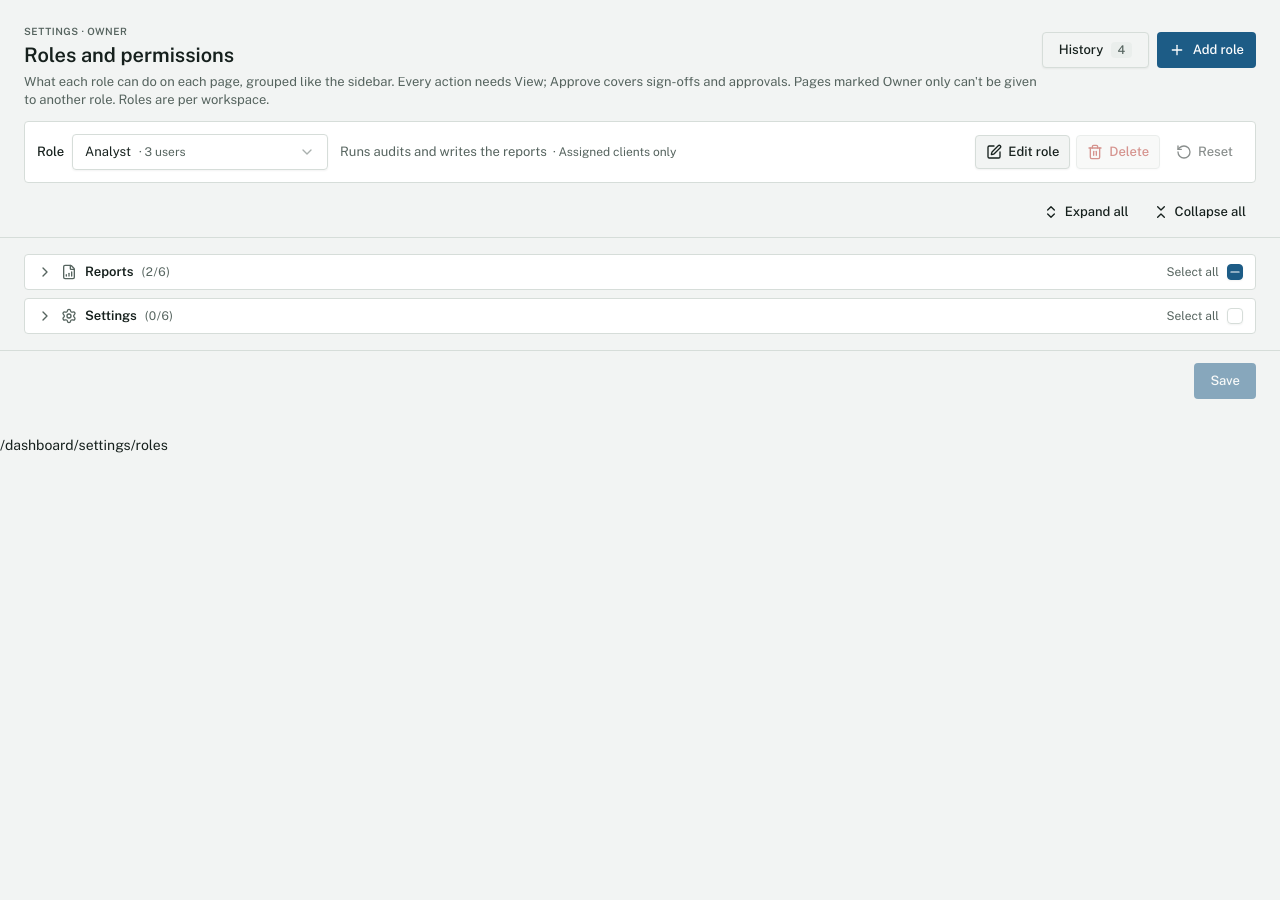
Test: RolesPage › asks before switching roles with unsaved changes
Expected: the dropdown named "Role" is shown, [72,134,328,170]
Click the button "Reports (2/6)".
click(109, 272)  # box [37,263,1154,281]
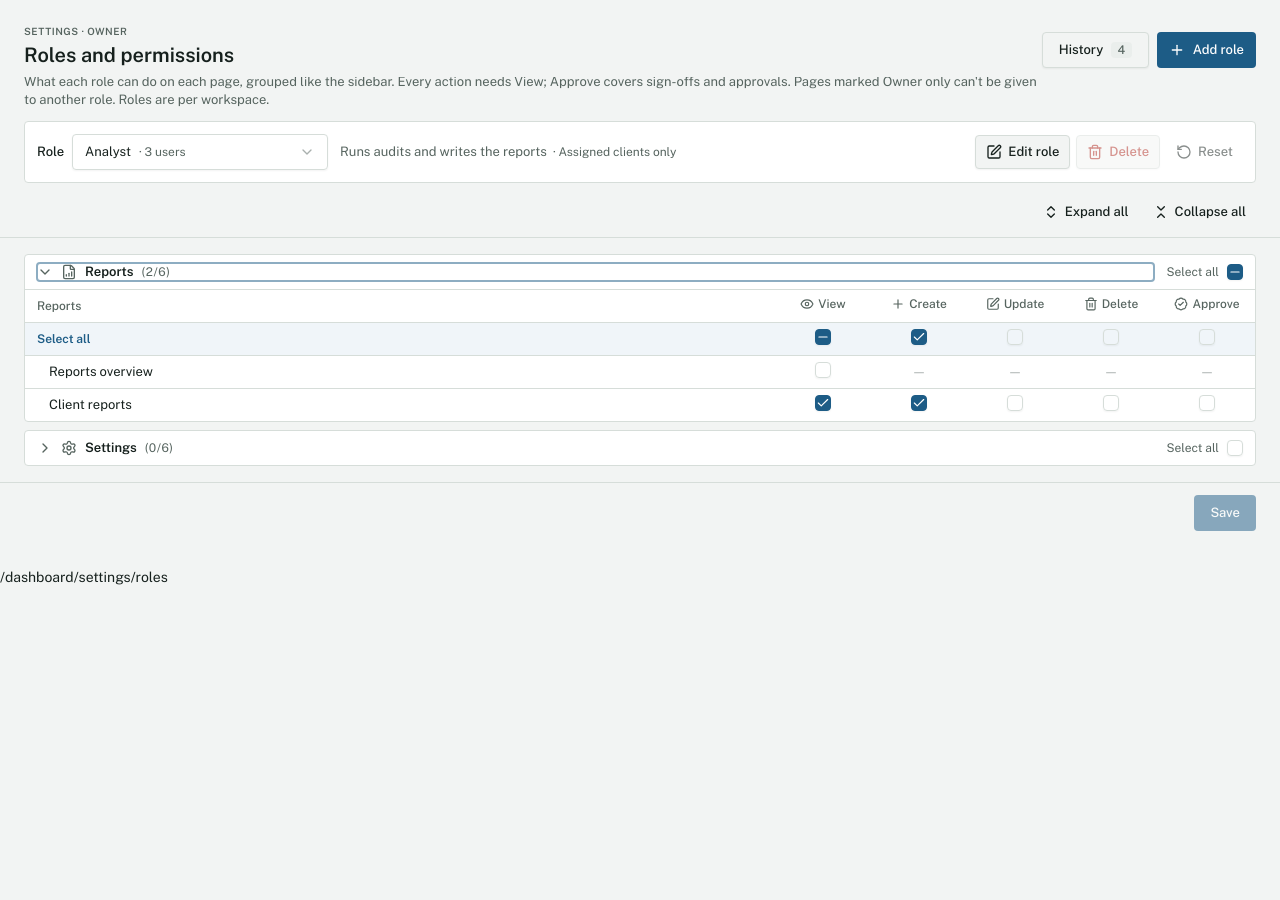
Click the checkbox named "Approve Client reports".
click(1207, 402)  # box [1199,394,1215,410]
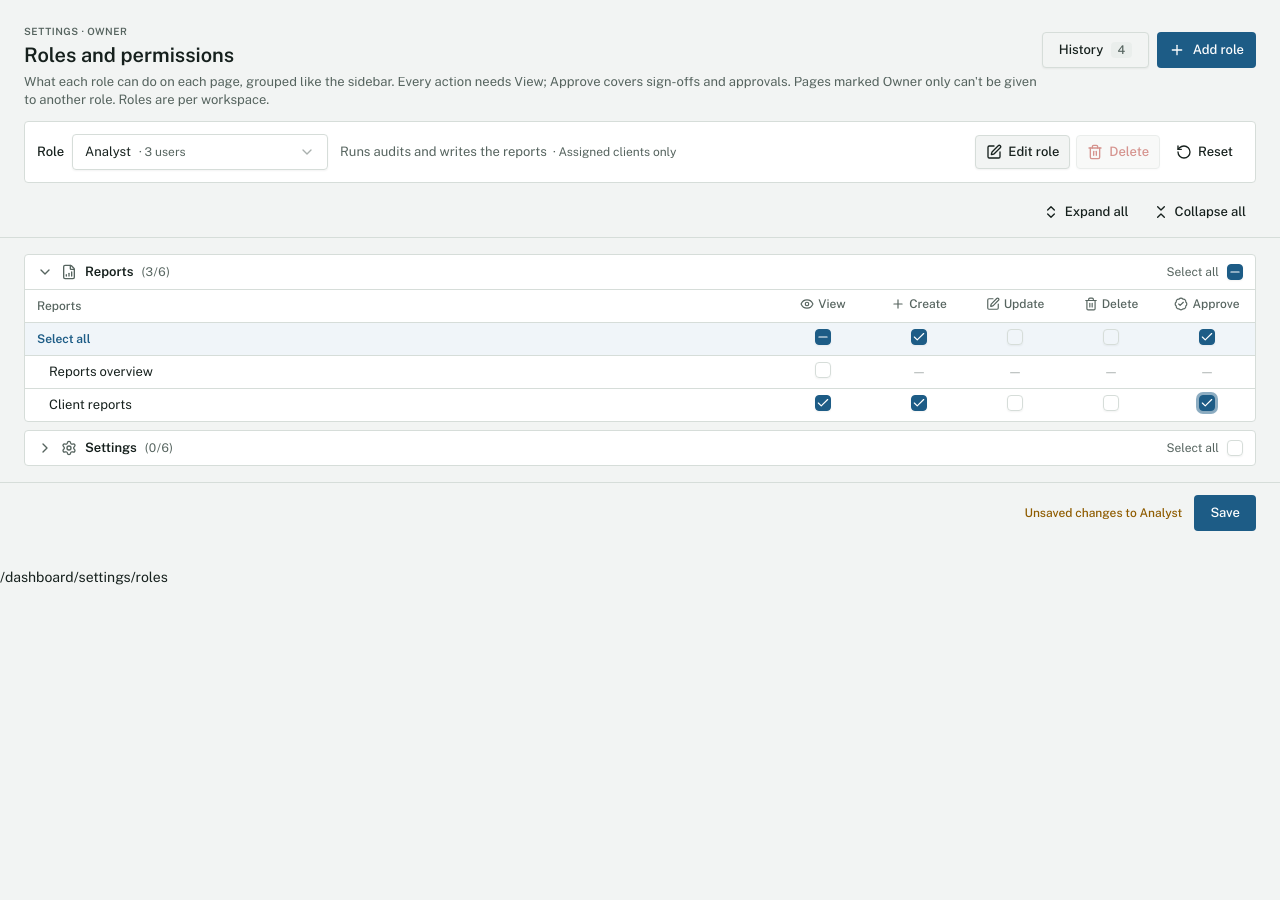
Click the dropdown named "Role".
click(200, 152)  # box [72,134,328,170]
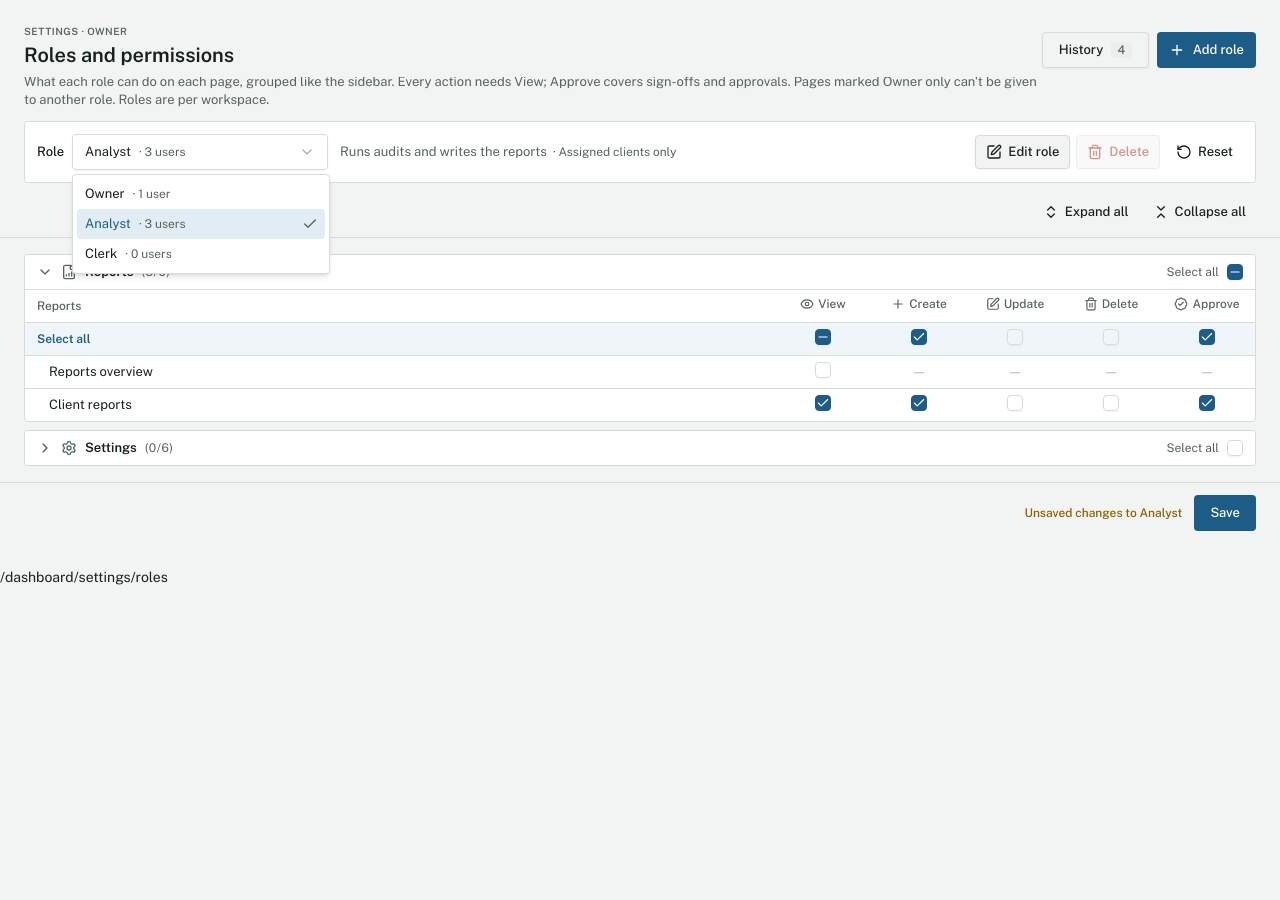
Click the option "Clerk · 0 users".
click(128, 254)  # box [85,246,172,261]
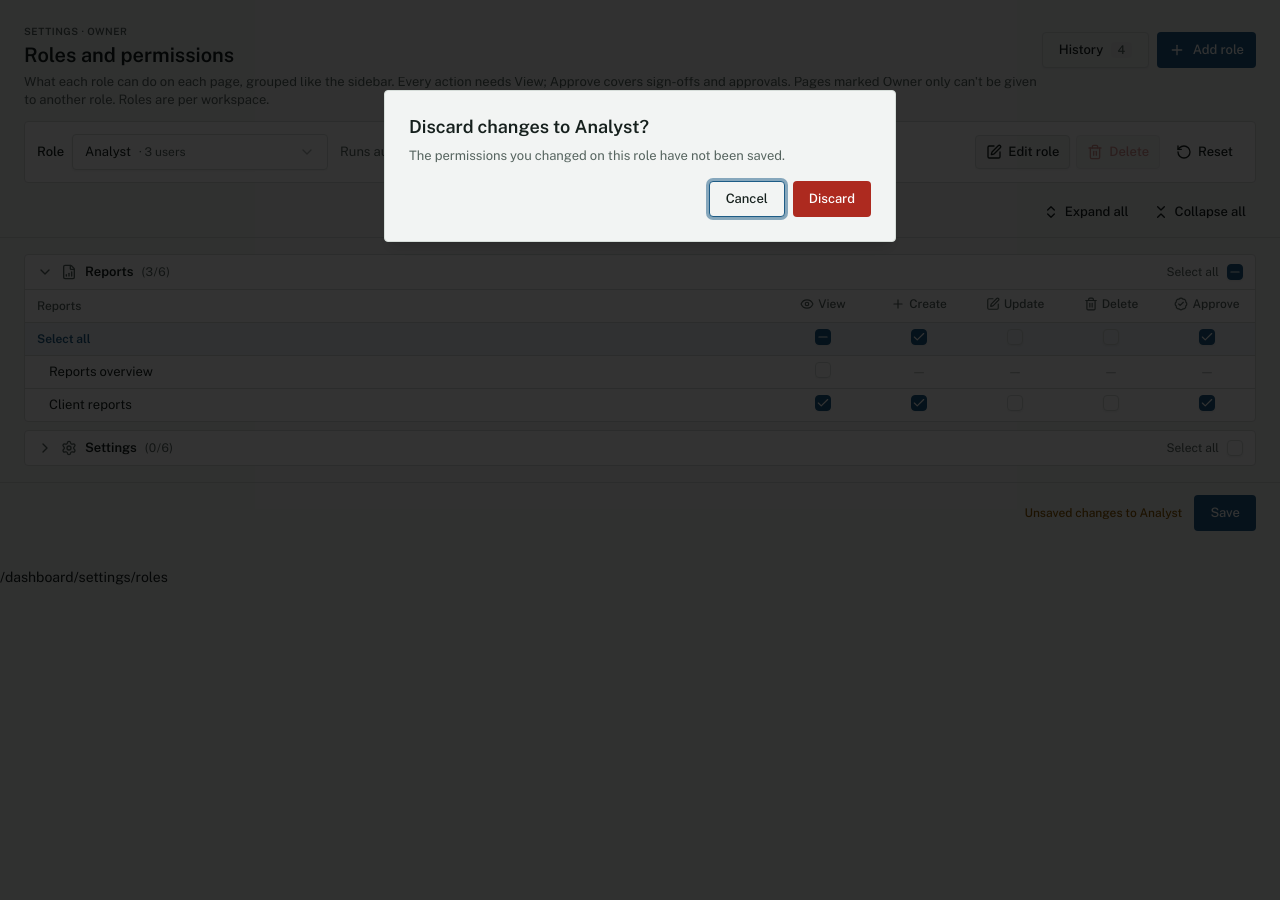
Now the dialog shows "Discard changes to Analyst?", box [409,116,649,137]
Click the button "Discard".
click(832, 199)  # box [793,181,871,217]
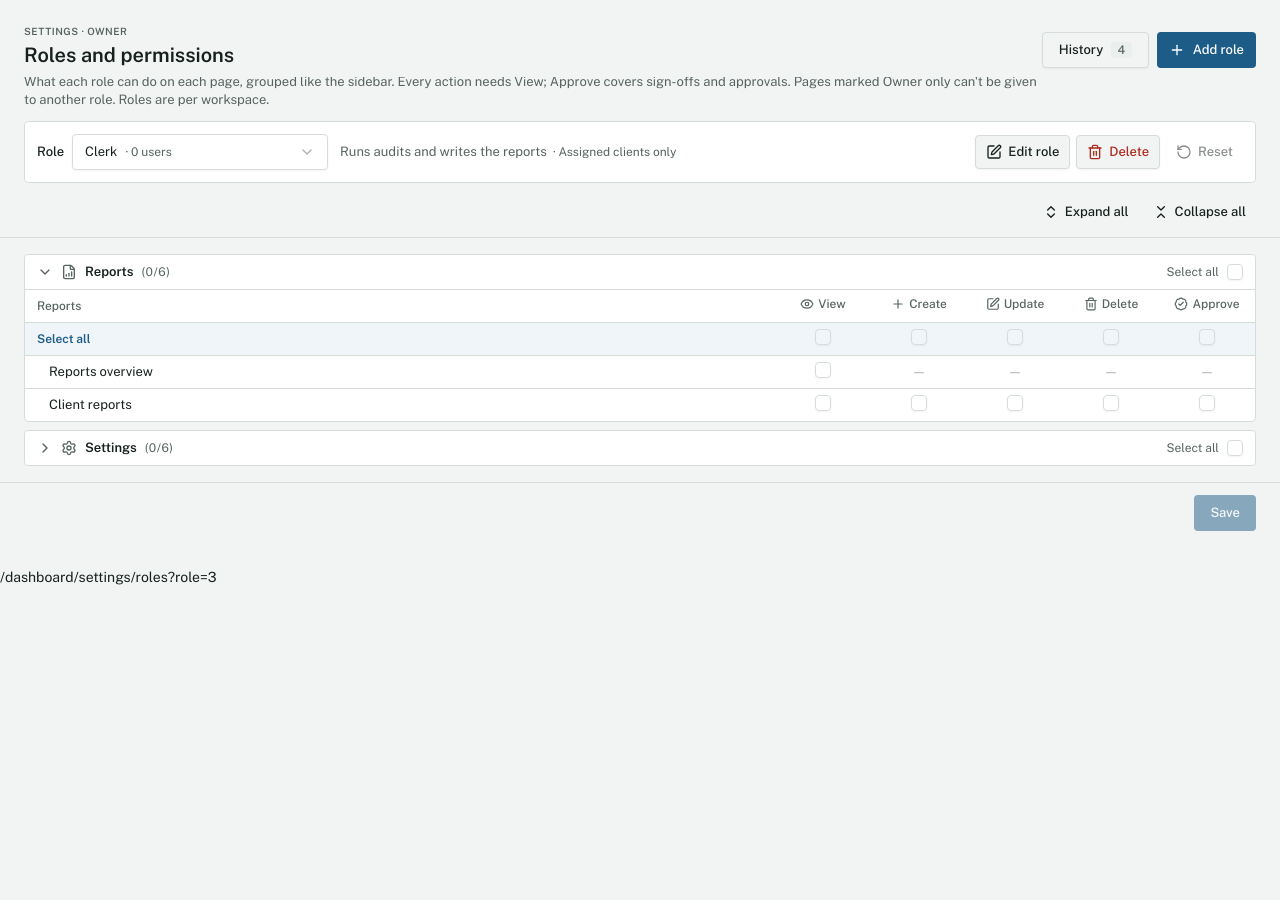
Now the text with test id "location" shows "role=3", box [0,568,217,584]
Now the checkbox named "View Client reports" is not checked, box [815,394,831,410]
